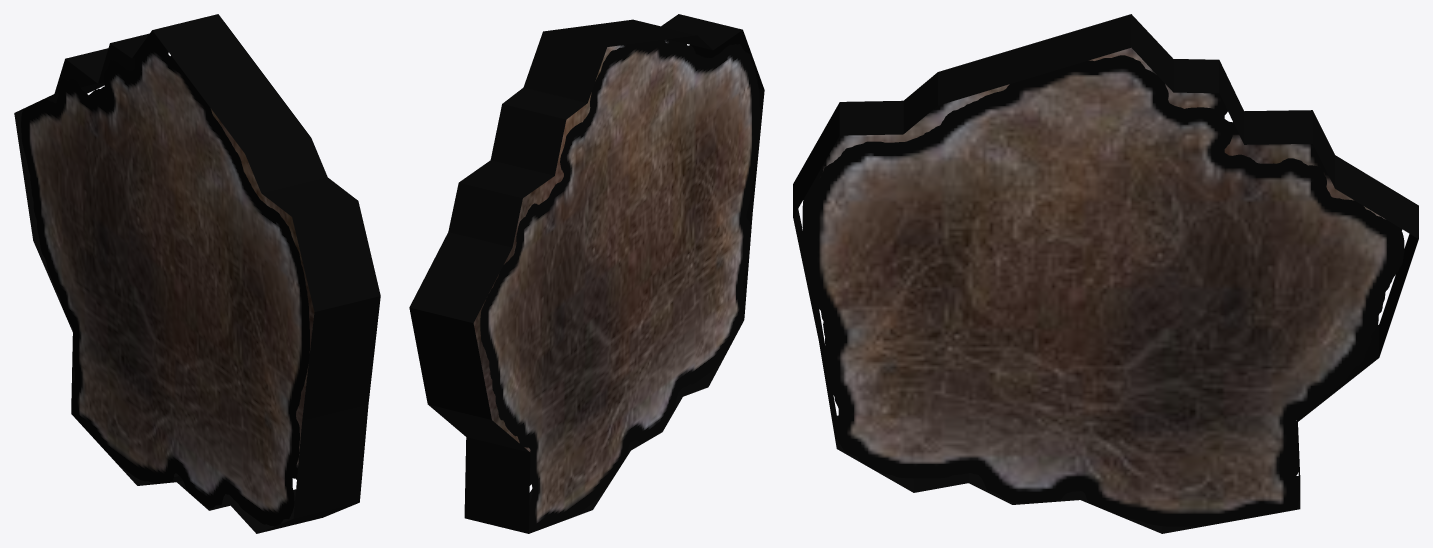
Rendered from Hairball.fbx.
The picture shows the model from 3 angles, left to right: view 1: azimuth 30°, elevation 25°; view 2: azimuth 150°, elevation 25°; view 3: azimuth 270°, elevation 25°; orthographic projection. The views are drawn at different scales.
Visible parts, largest first — view 1: Hairball; view 2: Hairball; view 3: Hairball.
Part boxes in pixels (x1,y1,x2,y2): Hairball: [14, 14, 380, 533]; Hairball: [409, 14, 764, 533]; Hairball: [793, 14, 1418, 533].
Bounding box in the file's own units: 4.31 × 29 × 33.82.
